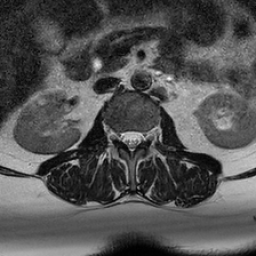CCS_normal: (126, 123, 134, 162)
LFS_normal: (142, 123, 150, 147)
LLS_normal: (134, 123, 142, 150)
RFS_normal: (112, 122, 118, 147)
RLS_normal: (118, 123, 126, 152)
